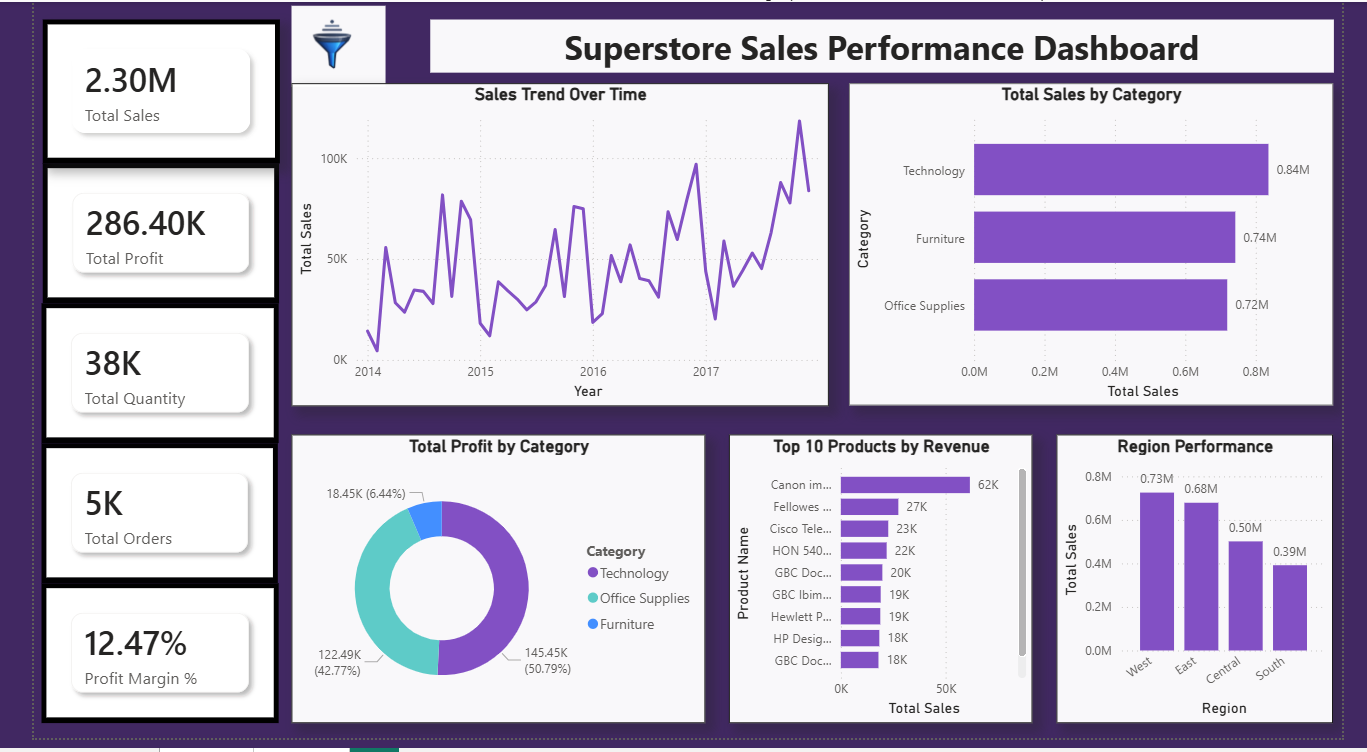

This screenshot's page, from the dashboard's own definition file:
{"tool":"powerbi","page":{"name":"Page 1","canvas":[1280,720],"ordinal":0},"visuals":[{"type":"cardVisual","fields":{"Data":["Sample - Superstore.Total Sales"]},"box":[8.6,157.7,231.1,137],"z":0},{"type":"cardVisual","fields":{"Data":["Sample - Superstore.Total Sales"]},"box":[8.6,17.1,232.3,140.6],"z":1000},{"type":"cardVisual","fields":{"Data":["Sample - Superstore.Total Quantity"]},"box":[7.3,294.7,232.3,137],"z":2000},{"type":"cardVisual","fields":{"Data":["Sample - Superstore.Total Orders"]},"box":[7.3,431.7,231.1,137],"z":3000},{"type":"actionButton","box":[251.9,3.7,91.7,79.5],"z":3500},{"type":"cardVisual","fields":{"Data":["Sample - Superstore.Profit Margin %"]},"box":[7.3,568.6,232.3,137],"z":4000},{"type":"lineChart","title":"Sales Trend Over Time","fields":{"Y":["Sample - Superstore.Total Sales"],"Category":["Sample - Superstore.Order Date.Variation.Date Hierarchy.Year","Sample - Superstore.Order Date.Variation.Date Hierarchy.Month"]},"box":[251.5,79.7,525.4,315.8],"z":5000},{"type":"clusteredBarChart","fields":{"Category":["Sample - Superstore.Category"],"Y":["Sample - Superstore.Total Sales"]},"box":[797.3,79.5,473.2,315.5],"z":6000},{"type":"barChart","title":"Top 10 Products by Revenue","fields":{"Y":["Sample - Superstore.Total Sales"],"Category":["Sample - Superstore.Product Name"]},"box":[652.5,423,325.6,282.4],"z":7000},{"type":"donutChart","fields":{"Category":["Sample - Superstore.Category"],"Y":["Sample - Superstore.Total Profit"]},"box":[251.8,423,388.2,282.4],"z":8000},{"type":"clusteredColumnChart","title":"Region Performance","fields":{"Y":["Sample - Superstore.Total Sales"],"Category":["Sample - Superstore.Region"]},"box":[989.2,423,281,282.4],"z":9000},{"type":"textbox","box":[387.3,17.4,883.8,52.1],"z":10000}]}

Visuals, with their boxes in screenshot pixels (x1, y1, x2, y2), scaled from the page's 1280x720 canvas onto the 1367x752 screenshot:
cardVisual - Sample - Superstore.Total Sales: BBox(9, 165, 256, 308)
cardVisual - Sample - Superstore.Total Sales: BBox(9, 18, 257, 165)
cardVisual - Sample - Superstore.Total Quantity: BBox(8, 308, 256, 451)
cardVisual - Sample - Superstore.Total Orders: BBox(8, 451, 255, 594)
actionButton: BBox(269, 4, 367, 87)
cardVisual - Sample - Superstore.Profit Margin %: BBox(8, 594, 256, 737)
"Sales Trend Over Time" lineChart: BBox(269, 83, 830, 413)
clusteredBarChart - Sample - Superstore.Category x Sample - Superstore.Total Sales: BBox(851, 83, 1357, 413)
"Top 10 Products by Revenue" barChart: BBox(697, 442, 1045, 737)
donutChart - Sample - Superstore.Category x Sample - Superstore.Total Profit: BBox(269, 442, 684, 737)
"Region Performance" clusteredColumnChart: BBox(1056, 442, 1357, 737)
textbox: BBox(414, 18, 1357, 73)
